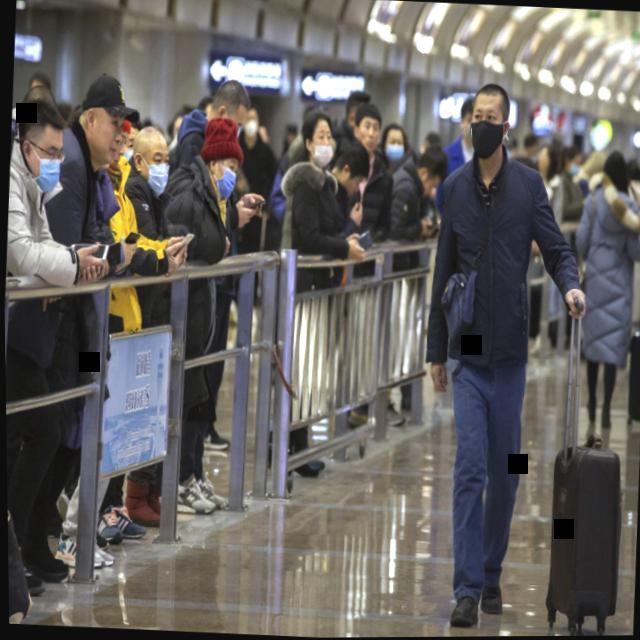Mask: (189, 117, 250, 210), (14, 103, 66, 199), (466, 82, 511, 159), (129, 127, 175, 195), (300, 110, 338, 168), (382, 121, 410, 163)
NO-Mask: (71, 76, 137, 176), (329, 146, 369, 204), (350, 103, 384, 153)
